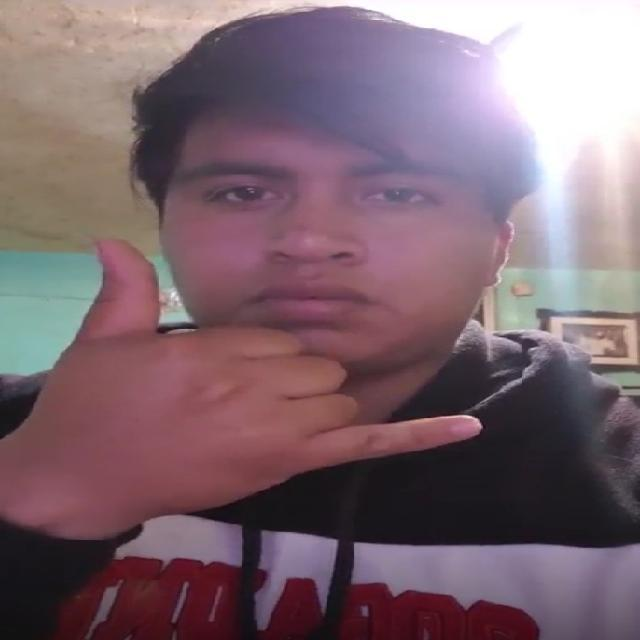Y: (12, 207, 499, 484)
